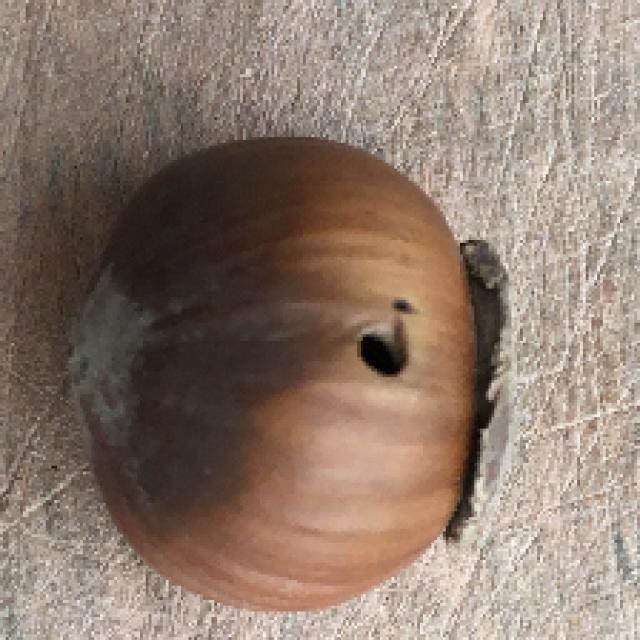damagedHazelnut: (49, 130, 520, 614)
